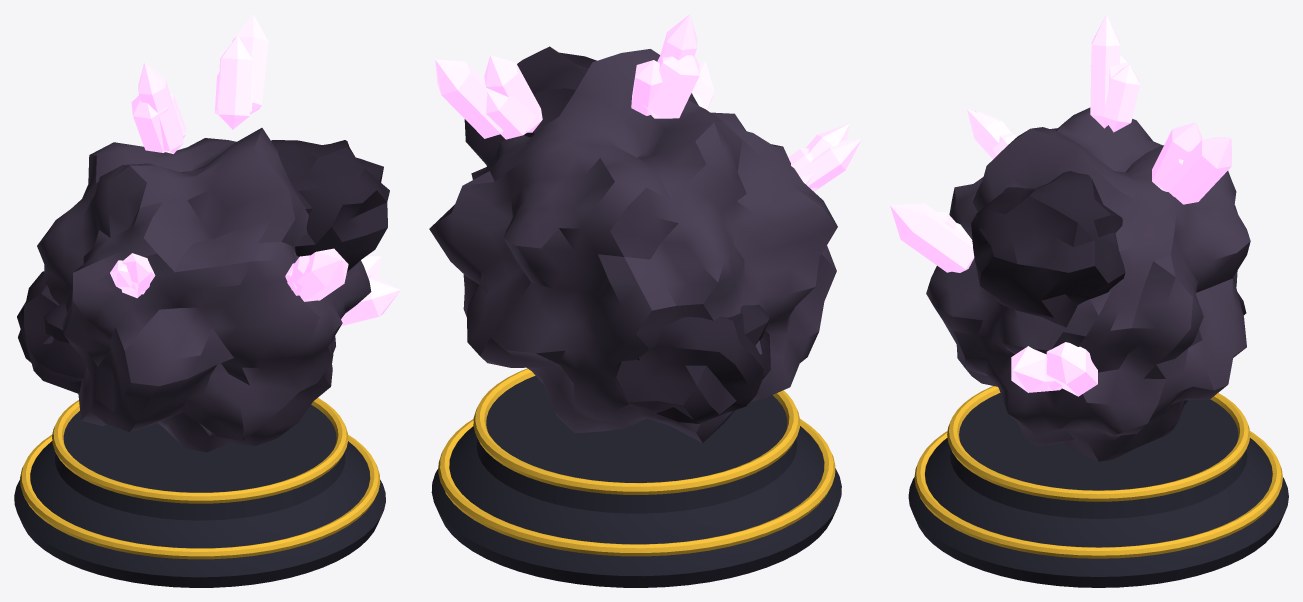
Rendered from Meteorite.fbx.
3 renders of one model, left to right at view 1: azimuth 30°, elevation 25°; view 2: azimuth 150°, elevation 25°; view 3: azimuth 270°, elevation 25°, orthographic. The views are drawn at different scales.
Parts seen in each view (by area): view 1: Rock, Marble, Crust, Crystal, Gold; view 2: Rock, Marble, Crust, Crystal, Gold; view 3: Rock, Marble, Crust, Crystal, Gold.
Part boxes in pixels (bbox=[...]): Rock: bbox=[37, 128, 371, 452]; Marble: bbox=[14, 404, 385, 587]; Crust: bbox=[17, 140, 389, 393]; Crystal: bbox=[110, 14, 400, 326]; Gold: bbox=[20, 398, 380, 559]; Rock: bbox=[429, 49, 837, 442]; Marble: bbox=[431, 375, 841, 587]; Crust: bbox=[464, 46, 770, 423]; Crystal: bbox=[435, 14, 861, 191]; Gold: bbox=[438, 368, 835, 556]; Rock: bbox=[926, 107, 1250, 461]; Marble: bbox=[908, 393, 1288, 587]; Crust: bbox=[971, 171, 1246, 327]; Crystal: bbox=[890, 14, 1231, 396]; Gold: bbox=[914, 386, 1282, 558].
Size of the model in its own units: 131 by 175 by 134.
